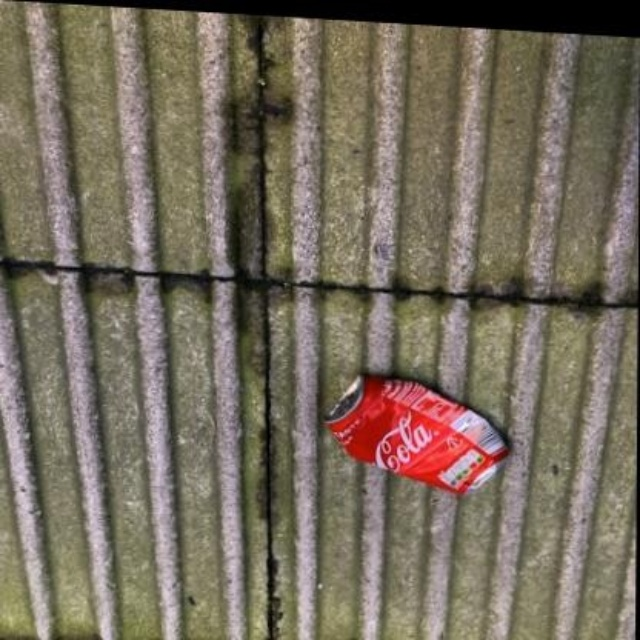trash: (325, 374, 508, 491)
